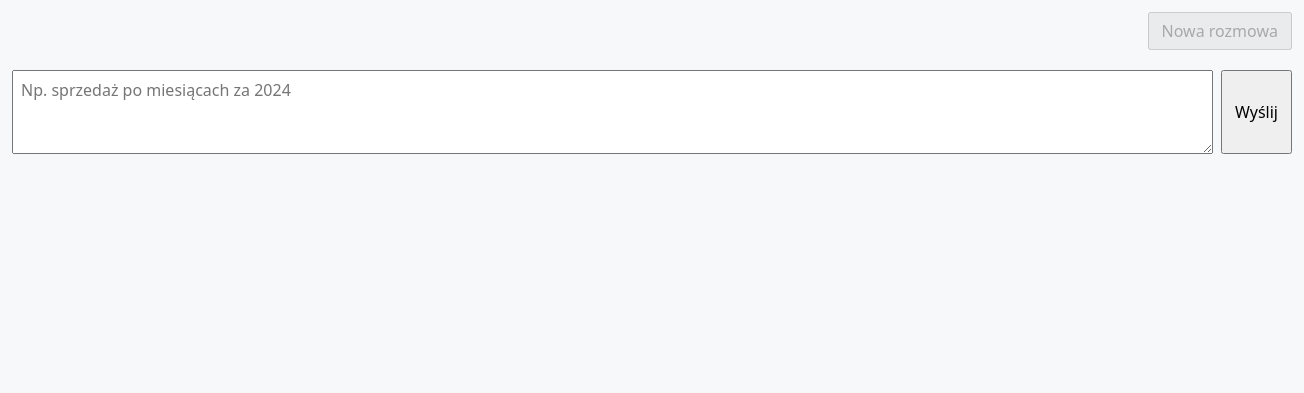
Test: ChatView › keeps how the answer was computed folded until asked
This screenshot has width=1304, height=393.
Type "Raport" into the text box named "Twoja prośba". click: [612, 112]
box: [12,70,1213,154]
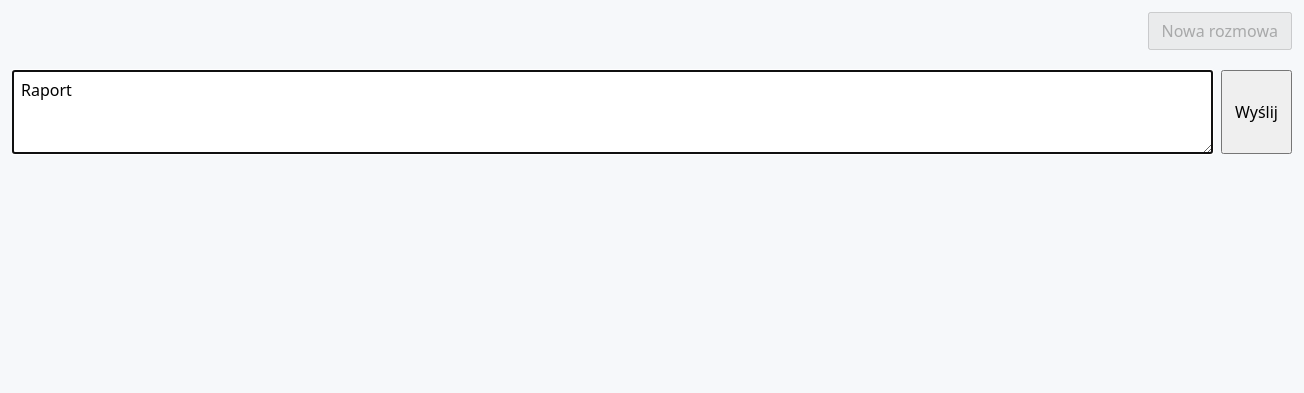
Click the button "Wyślij". click: [1256, 112]
box: [1221,70,1292,154]
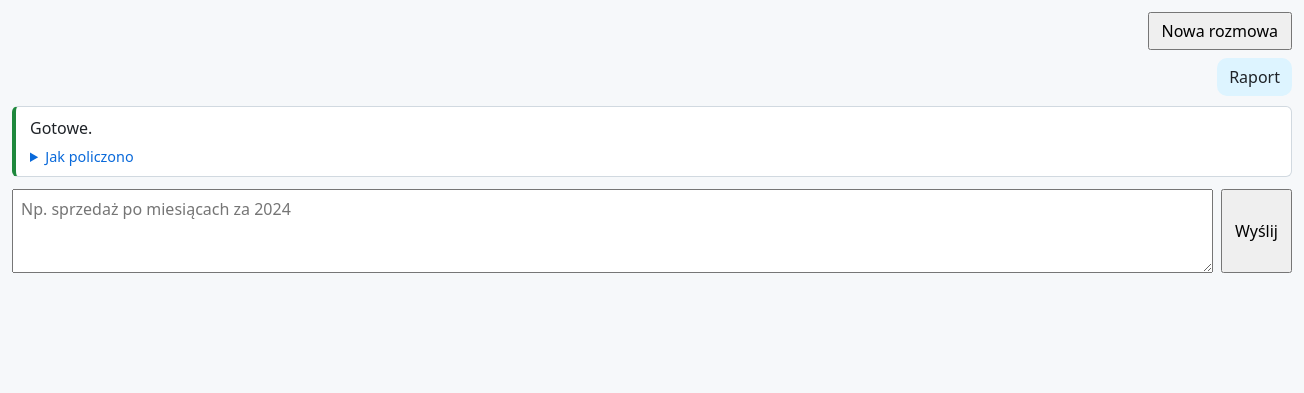
Click the heading "Jak policzono". click: [90, 156]
box: [45,147,134,166]
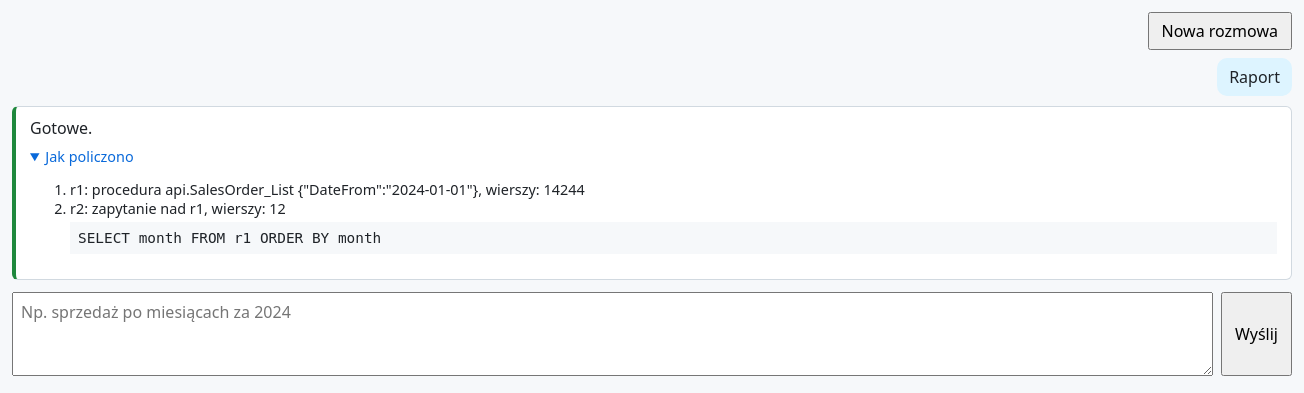
Expected: the text "api.SalesOrder_List" is shown, [165,180,294,199]
Expected: the text "SELECT month FROM r1 ORDER BY month" is shown, [70,222,1277,254]
